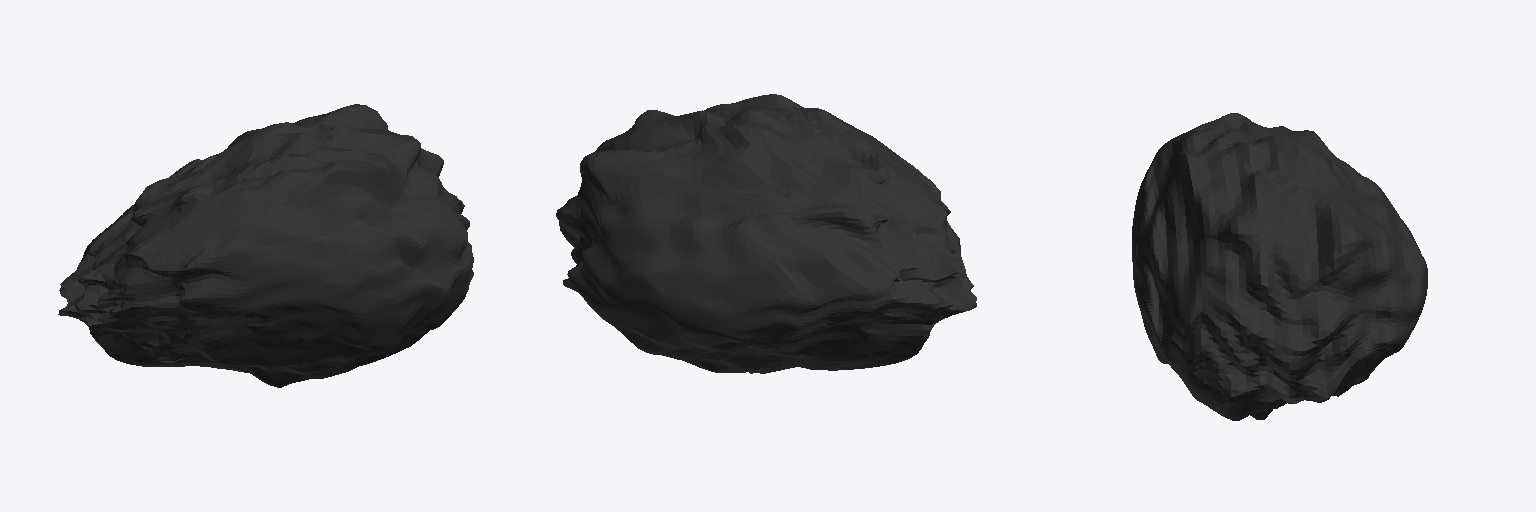
The model's file is AsteroidTriangles.obj.
The picture shows the model from 3 angles: view 1: azimuth 30°, elevation 25°; view 2: azimuth 150°, elevation 25°; view 3: azimuth 270°, elevation 25°; orthographic projection.
Parts seen in each view (by area): view 1: Sphere01; view 2: Sphere01; view 3: Sphere01.
Part boxes in pixels (left/top/right/bottom): Sphere01: left=58, top=104, right=473, bottom=387; Sphere01: left=556, top=94, right=976, bottom=373; Sphere01: left=1132, top=113, right=1427, bottom=420.
Bounding box in the file's own units: 39.05 × 23.17 × 24.69.